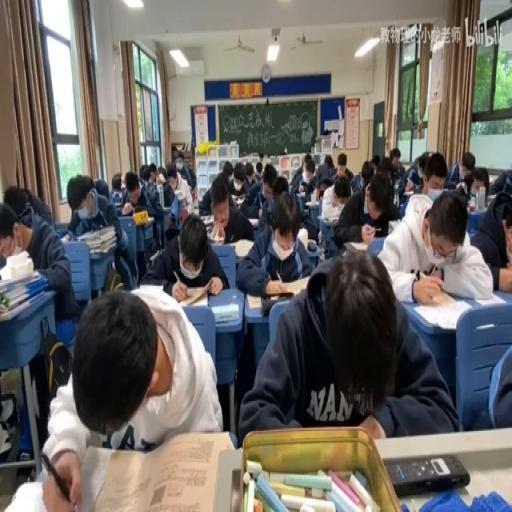calculator: (412, 294, 476, 330), (175, 279, 213, 307), (466, 289, 507, 307), (210, 301, 238, 323), (232, 236, 254, 256), (168, 192, 182, 222), (246, 292, 264, 308), (346, 240, 368, 250), (134, 214, 154, 224), (485, 192, 499, 206), (202, 218, 214, 234), (427, 188, 443, 200), (112, 199, 124, 215), (387, 219, 400, 233), (321, 213, 339, 222), (157, 182, 163, 206), (234, 195, 246, 205), (208, 235, 222, 243), (59, 233, 70, 243), (306, 198, 319, 206), (174, 189, 184, 199), (248, 218, 258, 226), (403, 189, 414, 196), (296, 189, 306, 194)
paper: (35, 283, 221, 511), (238, 248, 453, 442), (378, 189, 492, 302), (0, 196, 78, 339), (234, 188, 313, 292), (66, 172, 131, 296), (142, 208, 226, 296), (335, 168, 400, 247), (120, 169, 162, 238), (486, 343, 512, 431), (24, 189, 54, 228), (446, 149, 475, 189), (290, 154, 317, 196), (174, 152, 196, 194), (486, 164, 512, 198), (468, 165, 490, 202), (387, 145, 406, 179), (493, 190, 512, 223), (110, 172, 126, 205), (271, 175, 289, 199), (404, 165, 422, 189), (94, 176, 110, 199), (360, 161, 374, 186), (334, 181, 350, 202), (416, 151, 429, 176), (138, 164, 150, 188), (336, 154, 347, 176), (258, 148, 272, 165), (222, 161, 233, 182), (254, 159, 264, 181), (156, 165, 166, 186), (234, 166, 244, 185), (244, 166, 254, 184), (323, 154, 334, 169), (166, 170, 175, 186), (370, 154, 380, 165), (192, 186, 198, 202)
person: (386, 452, 470, 496), (262, 288, 293, 298), (306, 240, 316, 250), (168, 214, 171, 228)
